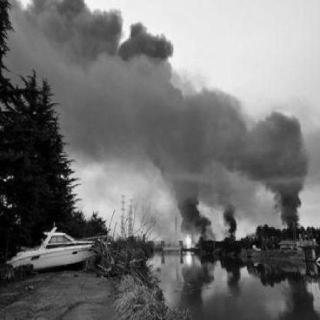Smoke: (159, 75, 211, 229)
